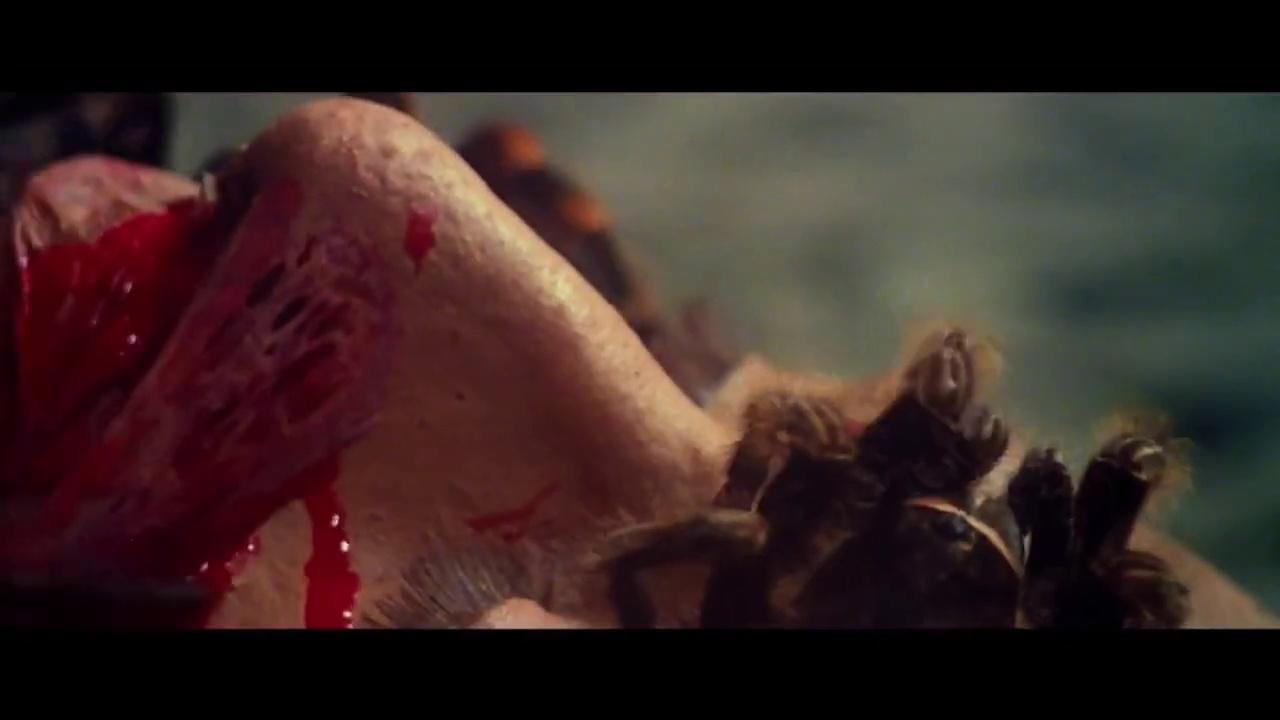Fire: (0, 116, 400, 628)
